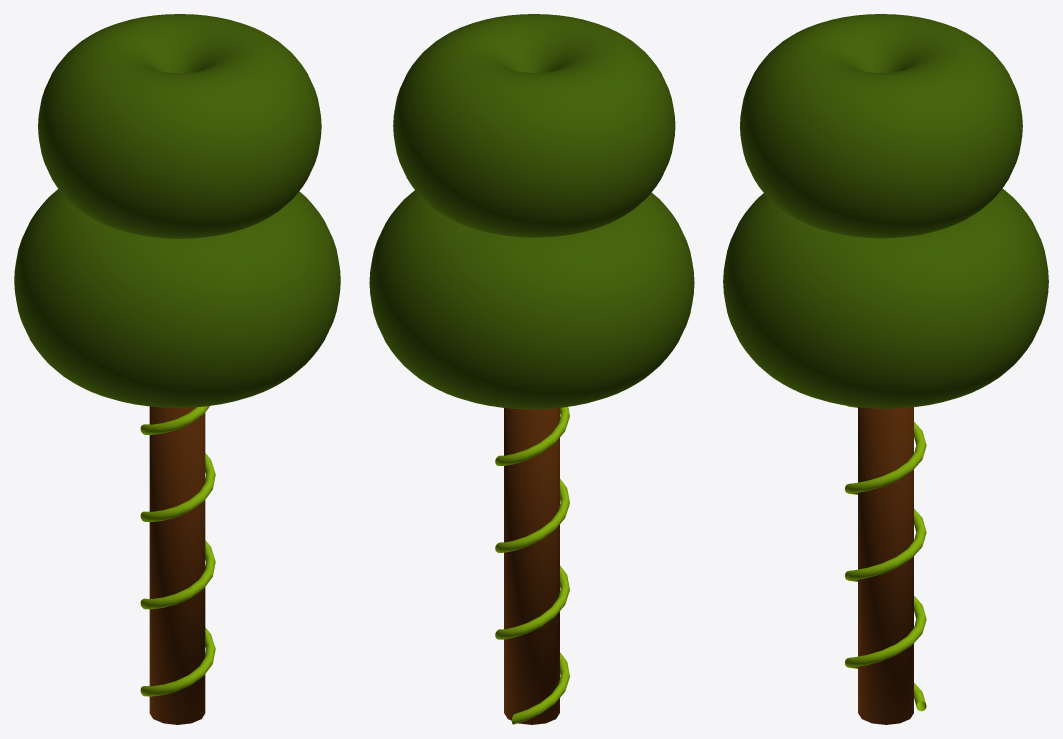
File: l_drzewo_1.fbx
The picture shows the model from 3 angles, left to right: view 1: azimuth 30°, elevation 25°; view 2: azimuth 150°, elevation 25°; view 3: azimuth 270°, elevation 25°; orthographic projection.
Visible parts, largest first — view 1: Torus.002, Torus.003, Cylinder.002, Circle.001; view 2: Torus.002, Torus.003, Cylinder.002, Circle.001; view 3: Torus.002, Torus.003, Cylinder.002, Circle.001.
Part boxes in pixels (box(x1,y1,x2,y2)): Torus.002: box(14, 189, 340, 407); Torus.003: box(38, 14, 321, 238); Cylinder.002: box(149, 406, 205, 724); Circle.001: box(140, 406, 215, 696); Torus.002: box(369, 190, 694, 409); Torus.003: box(393, 14, 675, 237); Cylinder.002: box(504, 408, 559, 724); Circle.001: box(495, 407, 569, 724); Torus.002: box(723, 188, 1048, 408); Torus.003: box(740, 14, 1022, 238); Cylinder.002: box(858, 407, 913, 724); Circle.001: box(845, 405, 926, 711).
Bounding box in the file's own units: 7.68 × 7.68 × 17.27.
